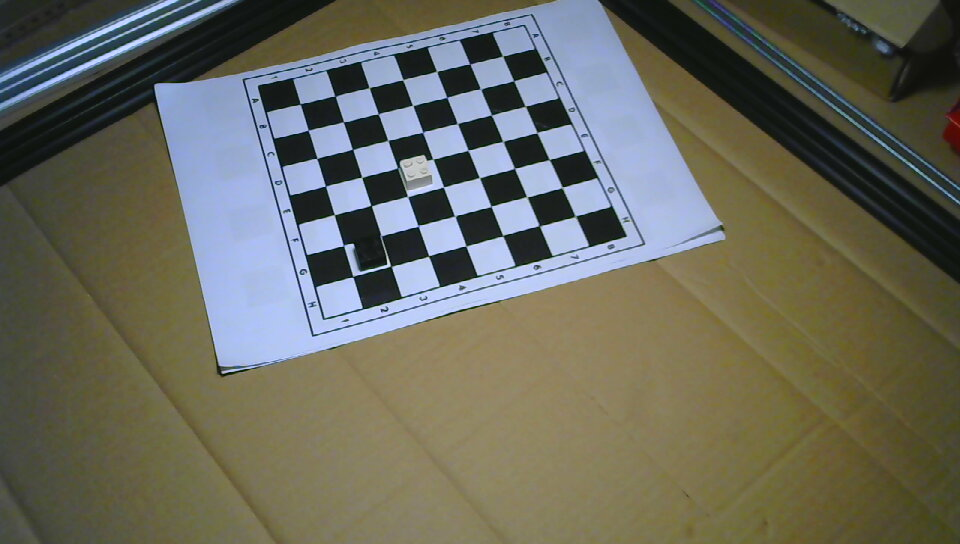bp: (353, 234, 387, 270)
wp: (398, 155, 433, 190)
